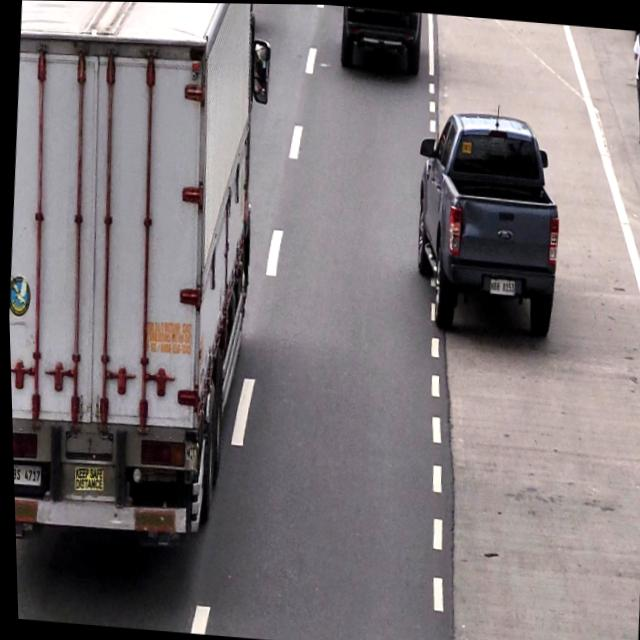Car: (406, 109, 564, 341), (338, 5, 423, 76)
License-Plate: (11, 460, 38, 488), (487, 274, 516, 296)
Truck: (0, 0, 268, 545)
